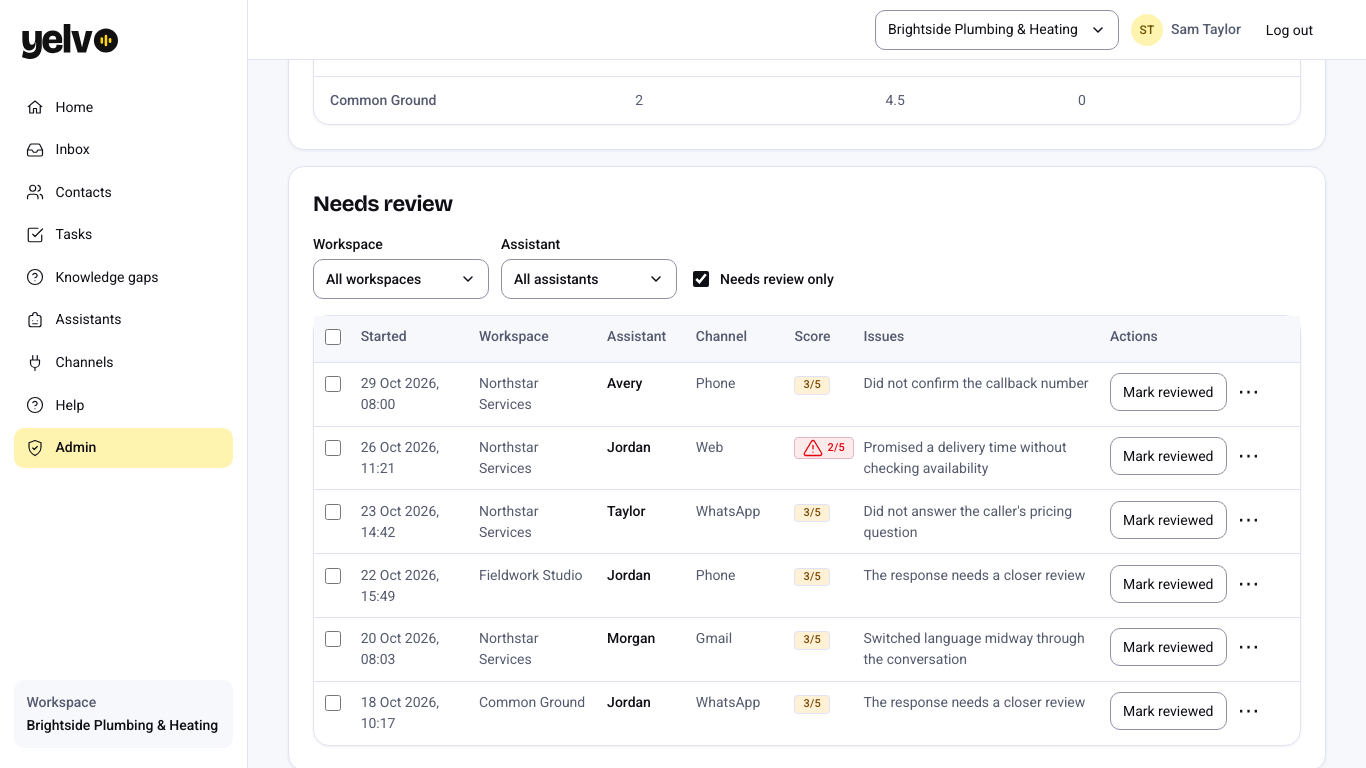
Scenario: platform admin pages › bulk reviews two selected rows
(page scrolled)
Expected: the checkbox labelled "Needs review only" is shown, [693, 271, 709, 287]
Click the checkbox named "Select Avery conversation": (333, 384) [325, 376, 341, 392]
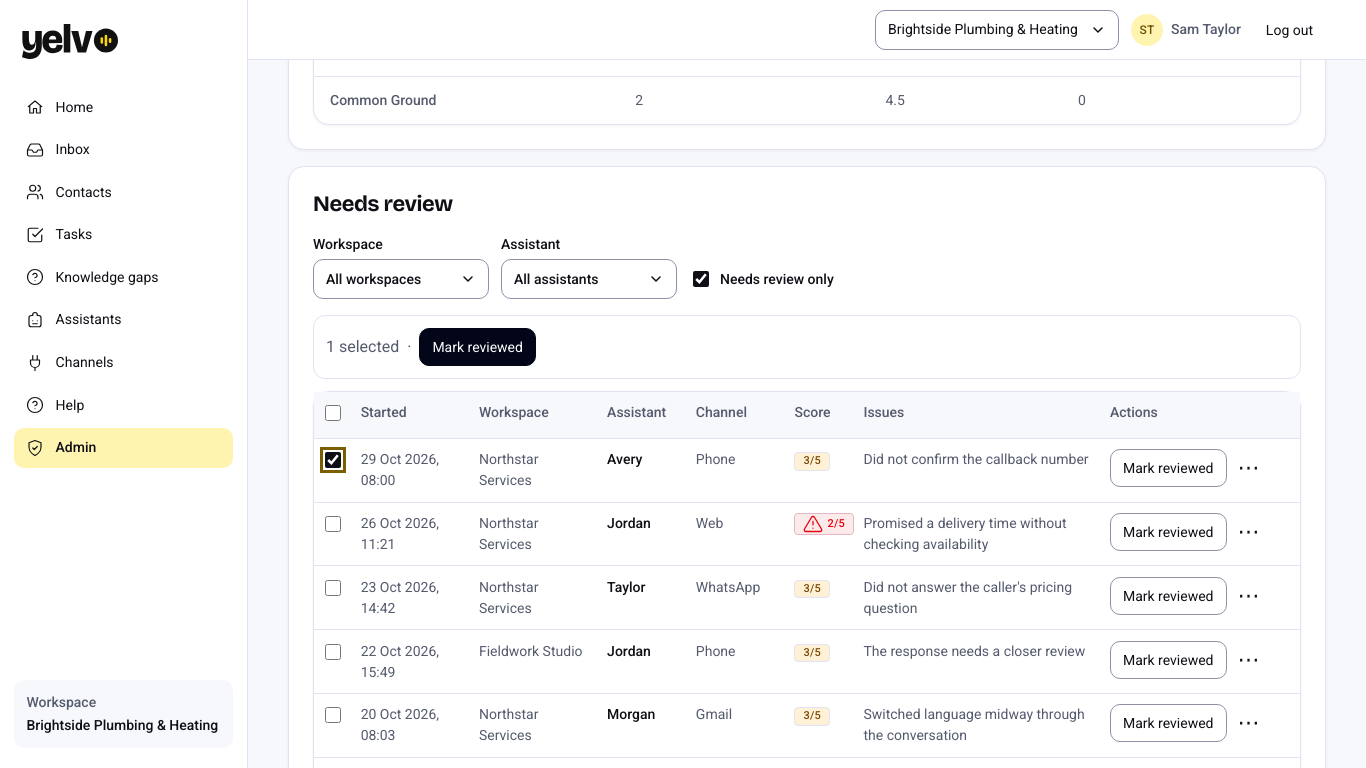
Click the checkbox named "Select Jordan conversation" next to "26 Oct 2026, 11:21": (333, 524) [325, 516, 341, 532]
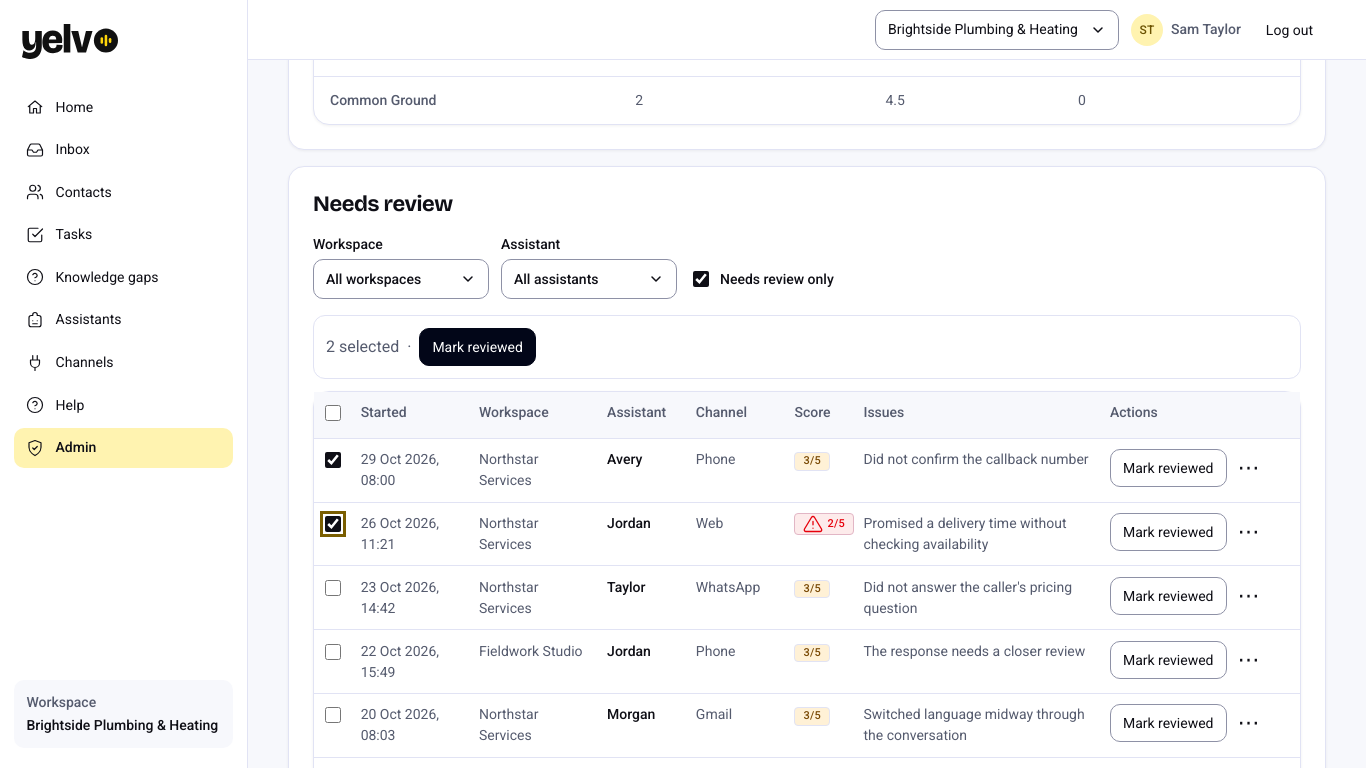
Now the button "Mark reviewed" next to "selected" is shown
Click the button "Mark reviewed" next to "selected": (478, 347) [419, 328, 536, 366]
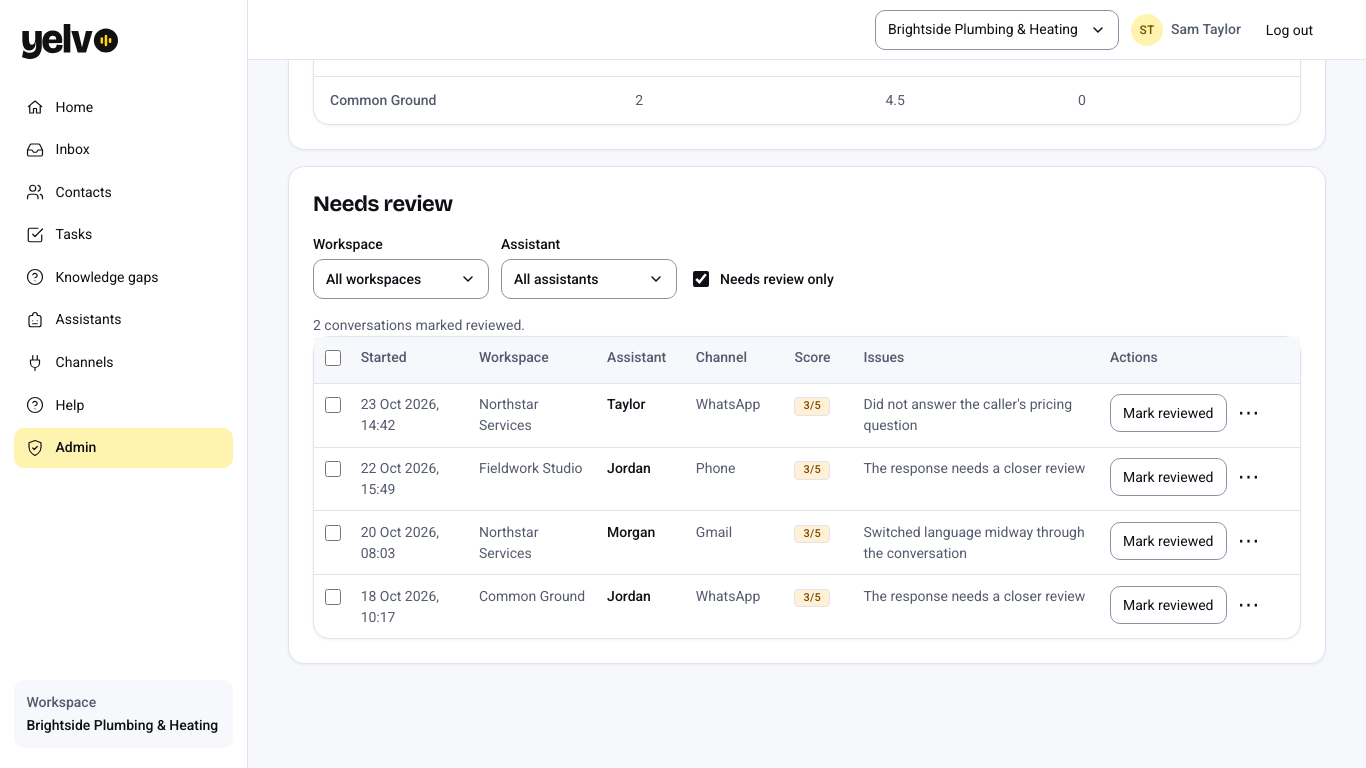
Now the text "2 conversations marked reviewed." is shown, box [313, 317, 525, 333]
